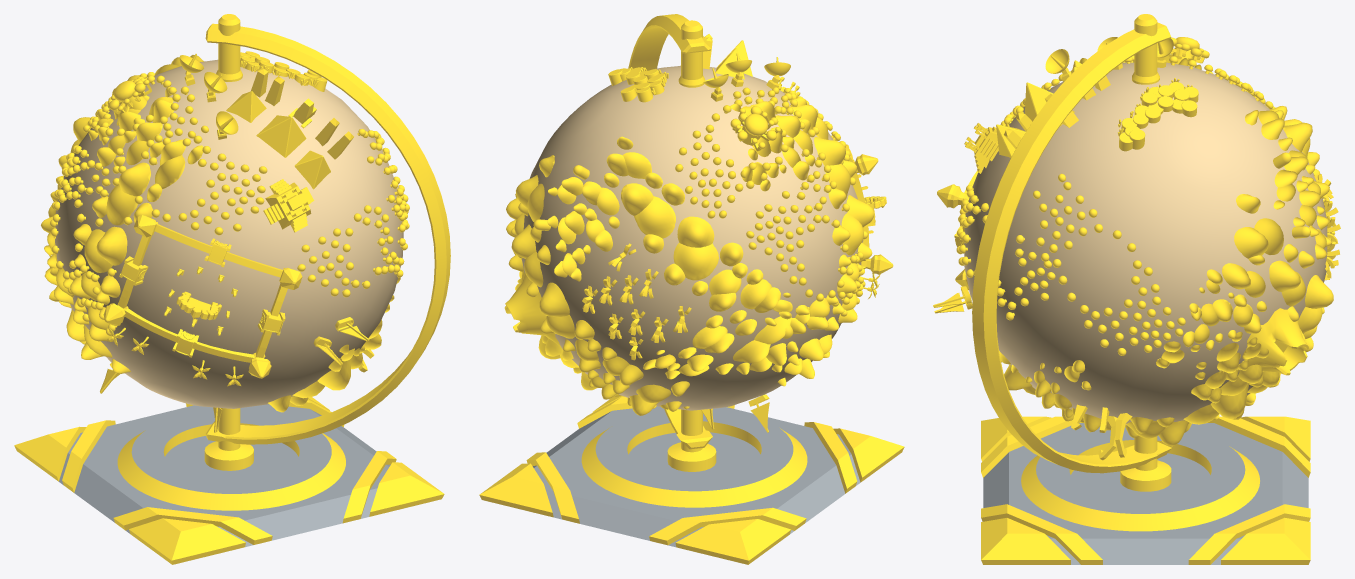
File: Globe4.fbx
3 renders of one model, left to right at view 1: azimuth 30°, elevation 25°; view 2: azimuth 150°, elevation 25°; view 3: azimuth 270°, elevation 25°, orthographic. The views are drawn at different scales.
Visible parts, largest first — view 1: globe_4, deets, Globe4, arc_arm, stand, spinning_shaft; view 2: deets, globe_4, Globe4, stand, spinning_shaft, arc_arm; view 3: globe_4, deets, Globe4, arc_arm, stand, spinning_shaft.
Part boxes in pixels (x1=…): globe_4: x1=55, y1=59, x2=403, y2=408; deets: x1=41, y1=51, x2=409, y2=432; Globe4: x1=14, y1=397, x2=444, y2=564; arc_arm: x1=205, y1=23, x2=450, y2=444; stand: x1=117, y1=409, x2=345, y2=510; spinning_shaft: x1=204, y1=14, x2=253, y2=470; deets: x1=504, y1=34, x2=893, y2=432; globe_4: x1=521, y1=66, x2=863, y2=410; Globe4: x1=479, y1=395, x2=904, y2=564; stand: x1=581, y1=408, x2=807, y2=507; spinning_shaft: x1=667, y1=20, x2=716, y2=471; arc_arm: x1=628, y1=14, x2=712, y2=449; globe_4: x1=964, y1=62, x2=1327, y2=425; deets: x1=933, y1=37, x2=1340, y2=460; Globe4: x1=981, y1=416, x2=1310, y2=564; arc_arm: x1=972, y1=22, x2=1171, y2=473; stand: x1=1021, y1=427, x2=1259, y2=531; spinning_shaft: x1=1120, y1=14, x2=1171, y2=491.
Size of the model in its own units: 0.8892 by 1.21 by 0.9367.
